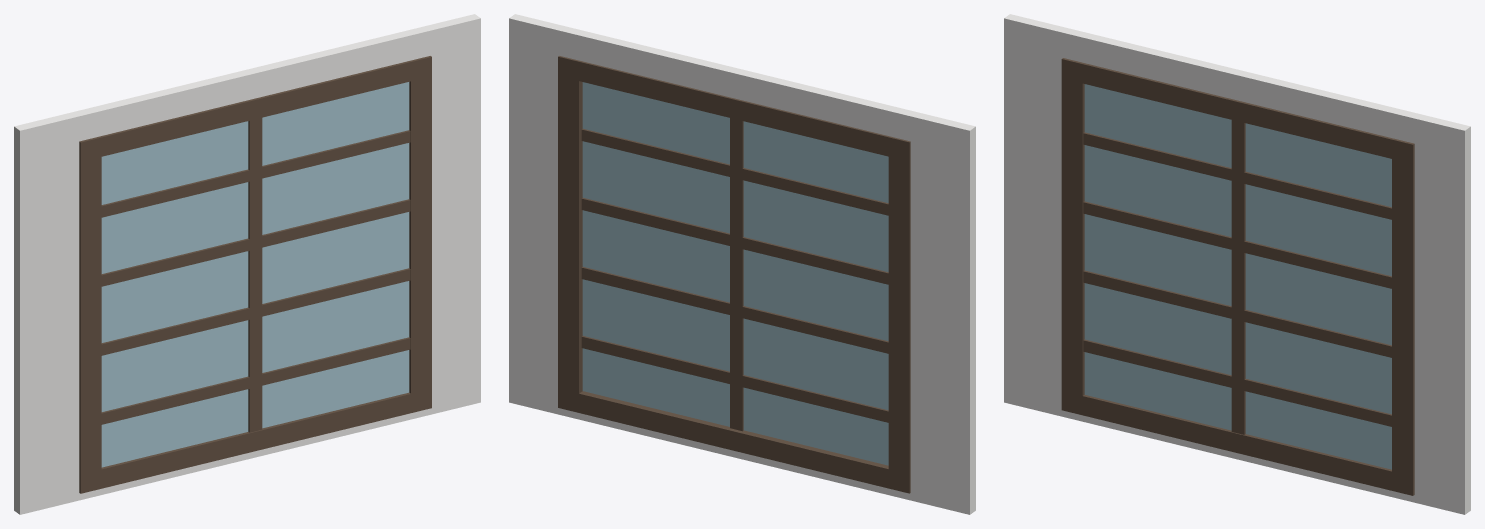
File: Wall_1.fbx
The picture shows the model from 3 angles, left to right: view 1: azimuth 30°, elevation 25°; view 2: azimuth 150°, elevation 25°; view 3: azimuth 330°, elevation 25°; orthographic projection.
Visible parts, largest first — view 1: Wall_1; view 2: Wall_1; view 3: Wall_1.
Boxes of the visible parts, x1,y1,x2,y2 form: Wall_1: (14,14,480,514); Wall_1: (509,14,975,514); Wall_1: (1004,14,1470,514).
Bounding box in the file's own units: 489 × 16.12 × 390.
